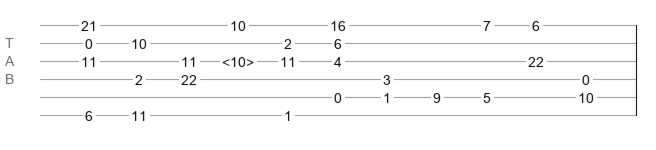0: (85, 36, 93, 46), (334, 90, 342, 100), (582, 72, 590, 82)
1: (284, 108, 292, 118), (383, 90, 391, 100)
10: (131, 36, 147, 46), (230, 18, 246, 28), (578, 90, 594, 100)
11: (81, 54, 97, 64), (131, 108, 147, 118), (181, 54, 197, 64), (280, 54, 296, 64)
16: (330, 18, 346, 28)
2: (135, 72, 143, 82), (284, 36, 292, 46)
21: (81, 18, 97, 28)
22: (181, 72, 197, 82), (528, 54, 544, 64)
3: (383, 72, 391, 82)
4: (334, 54, 342, 64)
5: (483, 90, 491, 100)
6: (85, 108, 93, 118), (334, 36, 342, 46), (532, 18, 540, 28)
7: (483, 18, 491, 28)
9: (433, 90, 441, 100)
harmonic: (222, 54, 254, 64)
